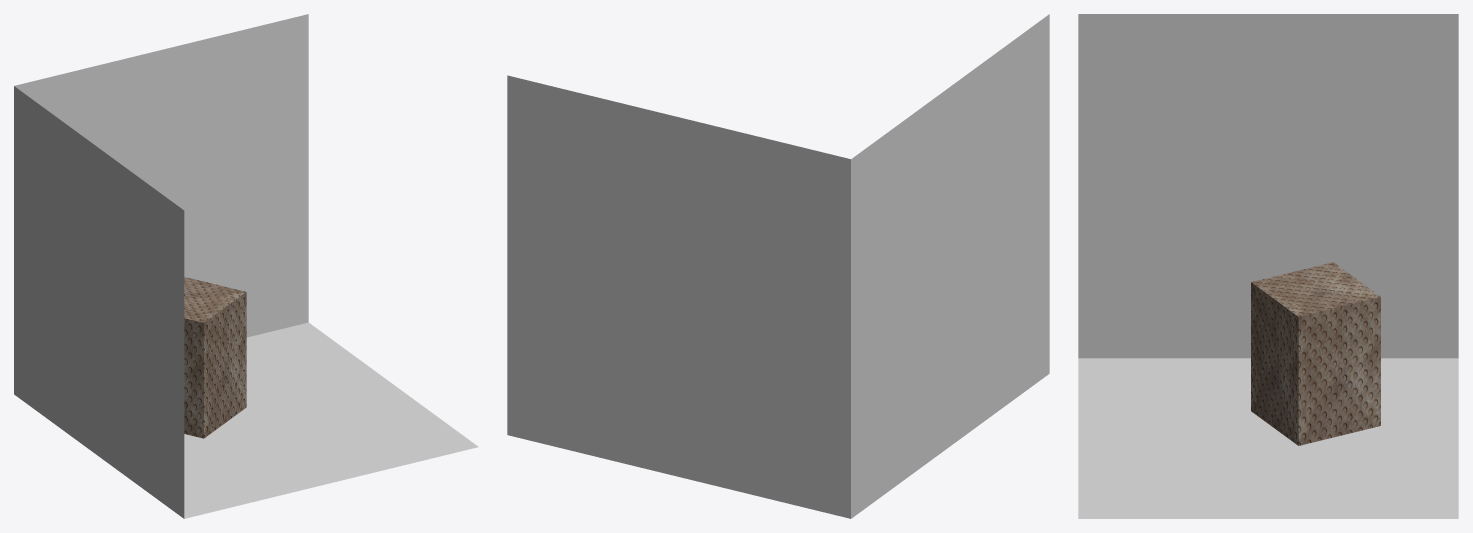
Rendered from cube_walls.dae.
The picture shows the model from 3 angles, left to right: view 1: azimuth 30°, elevation 25°; view 2: azimuth 150°, elevation 25°; view 3: azimuth 270°, elevation 25°; orthographic projection. The views are drawn at different scales.
Parts seen in each view (by area): view 1: green_plane, blue_plane, ground, Cube; view 2: blue_plane, green_plane; view 3: green_plane, ground, Cube.
Boxes of the visible parts, left/top/right/bottom form: green_plane: left=14, top=86, right=184, bottom=518; blue_plane: left=14, top=14, right=308, bottom=337; ground: left=184, top=322, right=478, bottom=518; Cube: left=184, top=277, right=246, bottom=438; blue_plane: left=507, top=75, right=850, bottom=518; green_plane: left=851, top=14, right=1049, bottom=518; green_plane: left=1078, top=14, right=1458, bottom=358; ground: left=1078, top=358, right=1458, bottom=518; Cube: left=1251, top=262, right=1380, bottom=445.
Bounding box in the file's own units: 8 × 8 × 8.
Materials: 1 (1 with a texture image).
